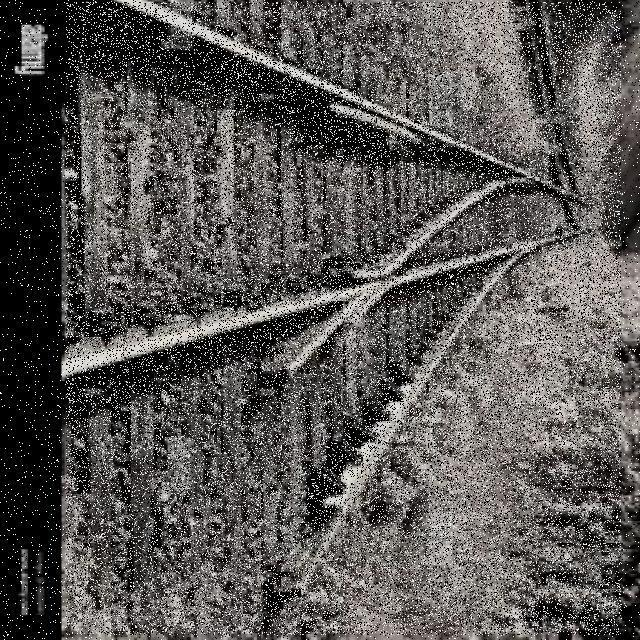rail: (66, 2, 621, 635)
